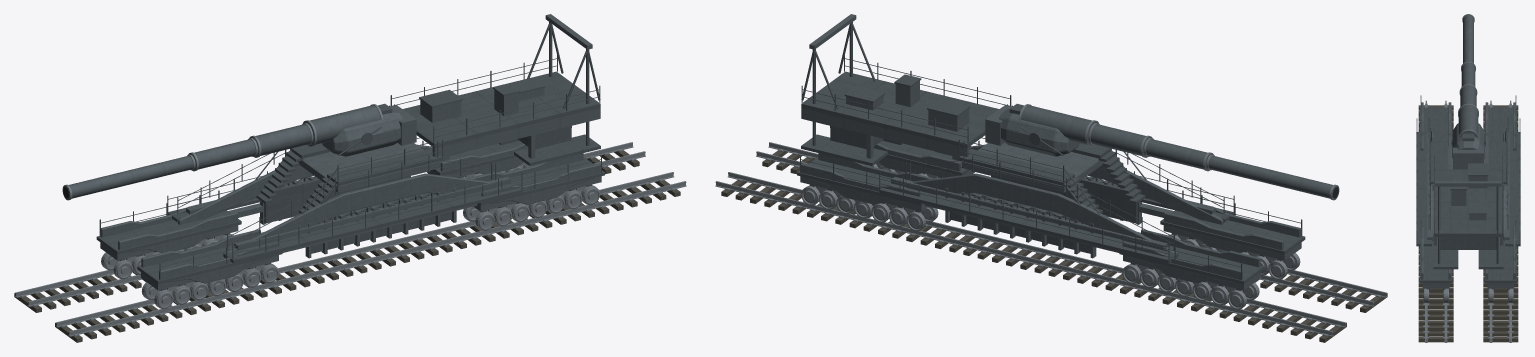
Rendered from runtime-low.glb.
3 views of the same model, side by side, from view 1: azimuth 30°, elevation 25°; view 2: azimuth 150°, elevation 25°; view 3: azimuth 270°, elevation 25° (orthographic). The views are drawn at different scales.
Visible parts, largest first — view 1: main-outer-frame-paint-batch, walkways-deck-batch, display-rails-steel-batch, closed-cylinder-shell-paint-batch, rear-display-deck-deck-batch, display-rails-sleeper-batch, walkways-trim-batch, rear-display-deck-paint-batch, rear-display-deck-trim-batch, main-outer-frame-trim-batch, closed-cylinder-shell-steel-batch; view 2: main-outer-frame-paint-batch, walkways-deck-batch, display-rails-steel-batch, closed-cylinder-shell-paint-batch, rear-display-deck-deck-batch, display-rails-sleeper-batch, walkways-trim-batch, rear-display-deck-paint-batch, rear-display-deck-trim-batch, main-outer-frame-trim-batch, closed-cylinder-shell-steel-batch; view 3: walkways-deck-batch, rear-display-deck-deck-batch, display-rails-sleeper-batch, closed-cylinder-shell-paint-batch, main-outer-frame-paint-batch, rear-display-deck-trim-batch, walkways-trim-batch, rear-display-deck-paint-batch, display-rails-steel-batch, closed-cylinder-shell-steel-batch, closed-cylinder-shell-trim-batch.
Boxes of the visible parts, box(x1,y1,x2,y2) form: main-outer-frame-paint-batch: box(100, 143, 601, 290); walkways-deck-batch: box(96, 140, 604, 284); display-rails-steel-batch: box(15, 142, 686, 336); closed-cylinder-shell-paint-batch: box(62, 105, 416, 199); rear-display-deck-deck-batch: box(402, 71, 600, 165); display-rails-sleeper-batch: box(14, 150, 680, 342); walkways-trim-batch: box(99, 104, 601, 280); rear-display-deck-paint-batch: box(420, 14, 600, 158); rear-display-deck-trim-batch: box(390, 22, 600, 149); main-outer-frame-trim-batch: box(119, 172, 592, 290); closed-cylinder-shell-steel-batch: box(62, 104, 383, 200); main-outer-frame-paint-batch: box(800, 143, 1301, 290); walkways-deck-batch: box(797, 140, 1305, 284); display-rails-steel-batch: box(715, 142, 1386, 336); closed-cylinder-shell-paint-batch: box(985, 105, 1339, 199); rear-display-deck-deck-batch: box(801, 71, 999, 165); display-rails-sleeper-batch: box(721, 150, 1387, 342); walkways-trim-batch: box(800, 104, 1302, 280); rear-display-deck-paint-batch: box(801, 14, 969, 158); rear-display-deck-trim-batch: box(801, 22, 1011, 149); main-outer-frame-trim-batch: box(809, 172, 1282, 290); closed-cylinder-shell-steel-batch: box(1018, 104, 1339, 200); walkways-deck-batch: box(1416, 107, 1520, 283); rear-display-deck-deck-batch: box(1433, 169, 1503, 269); display-rails-sleeper-batch: box(1418, 105, 1518, 342); closed-cylinder-shell-paint-batch: box(1452, 15, 1484, 169); main-outer-frame-paint-batch: box(1421, 102, 1515, 288); rear-display-deck-trim-batch: box(1434, 155, 1502, 263); walkways-trim-batch: box(1416, 95, 1520, 279); rear-display-deck-paint-batch: box(1433, 176, 1503, 245); display-rails-steel-batch: box(1423, 100, 1513, 342); closed-cylinder-shell-steel-batch: box(1458, 14, 1478, 138); closed-cylinder-shell-trim-batch: box(1451, 133, 1485, 144).
Size of the model in its own units: 26 by 6.54 by 4.8.
Materials: 6 (3 with a texture image).
